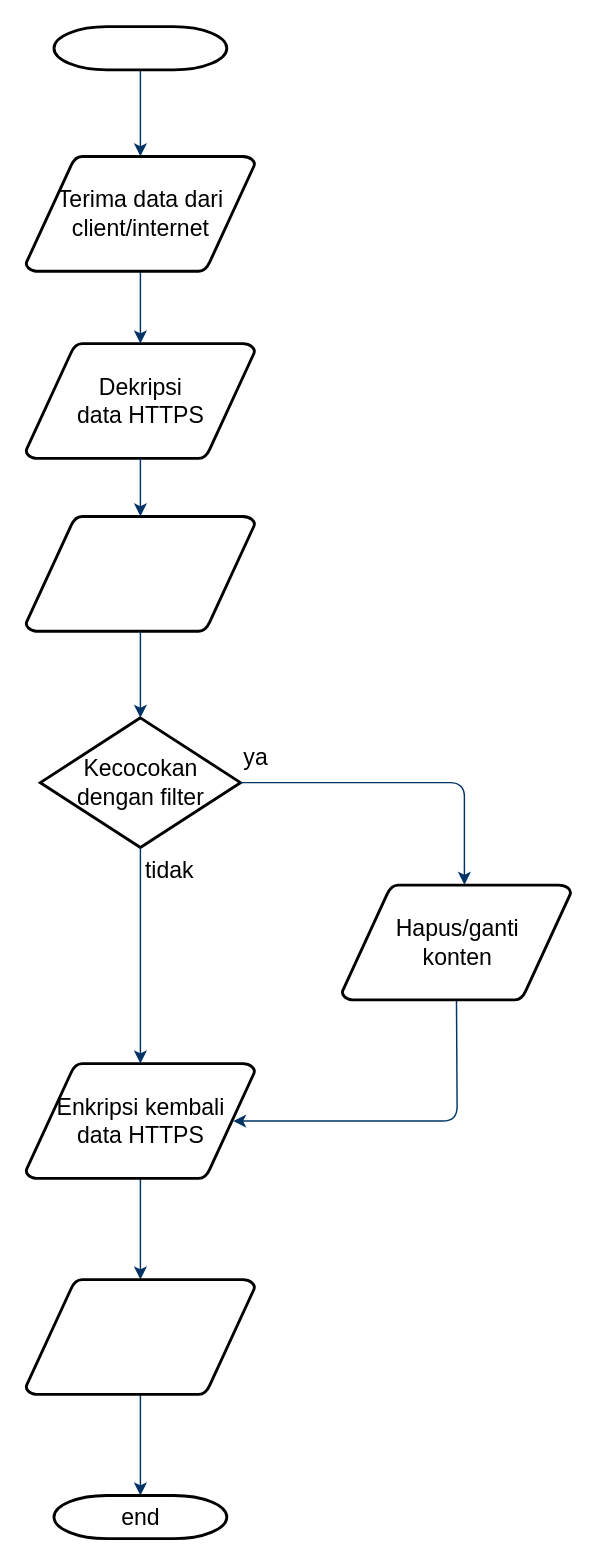
Some shapes in this 598 by 1564 pixel diagram are drawn without their labels. The shapes that lost their labels are listed below. From the top down, each one's box as (x1, y1, x2, y2) in pixels, then its label:
(52, 24, 228, 71): start
(24, 514, 256, 632): Penyaringan konten
(24, 1277, 256, 1395): Teruskan data ke client/internet
